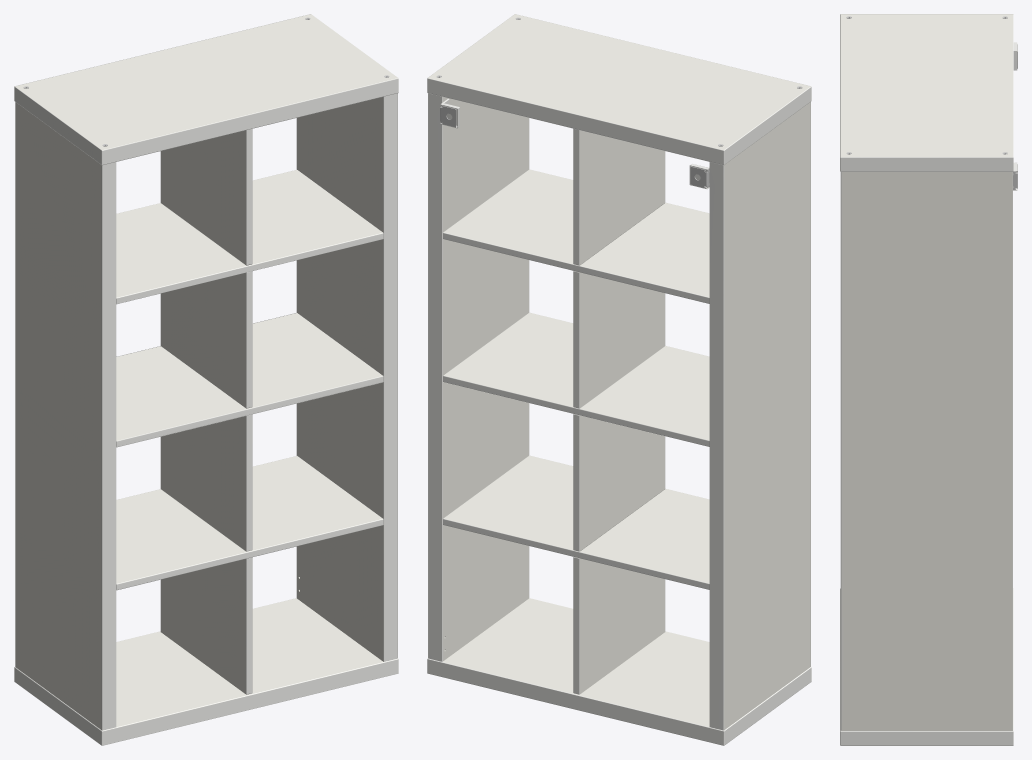
The model's file is bookshelf.glb.
3 views of the same model, side by side, from view 1: azimuth 30°, elevation 25°; view 2: azimuth 150°, elevation 25°; view 3: azimuth 270°, elevation 25° (orthographic).
Parts seen in each view (by area): view 1: Mesh_0; view 2: Mesh_0; view 3: Mesh_0.
Boxes of the visible parts, <box> form: Mesh_0: <box>14,14,398,745</box>; Mesh_0: <box>427,14,811,745</box>; Mesh_0: <box>840,14,1017,745</box>.
Size of the model in its own units: 0.7652 by 1.47 by 0.4013.
Materials: 1 (1 with a texture image).
